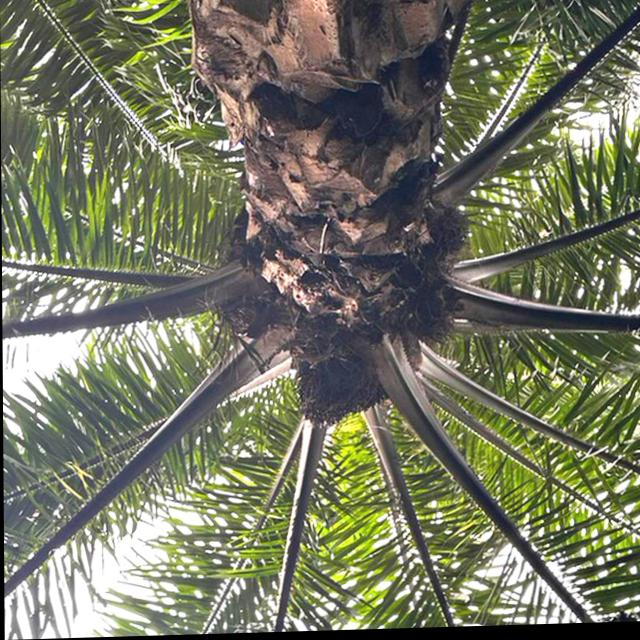almost: (290, 348, 388, 432), (430, 205, 473, 260)
